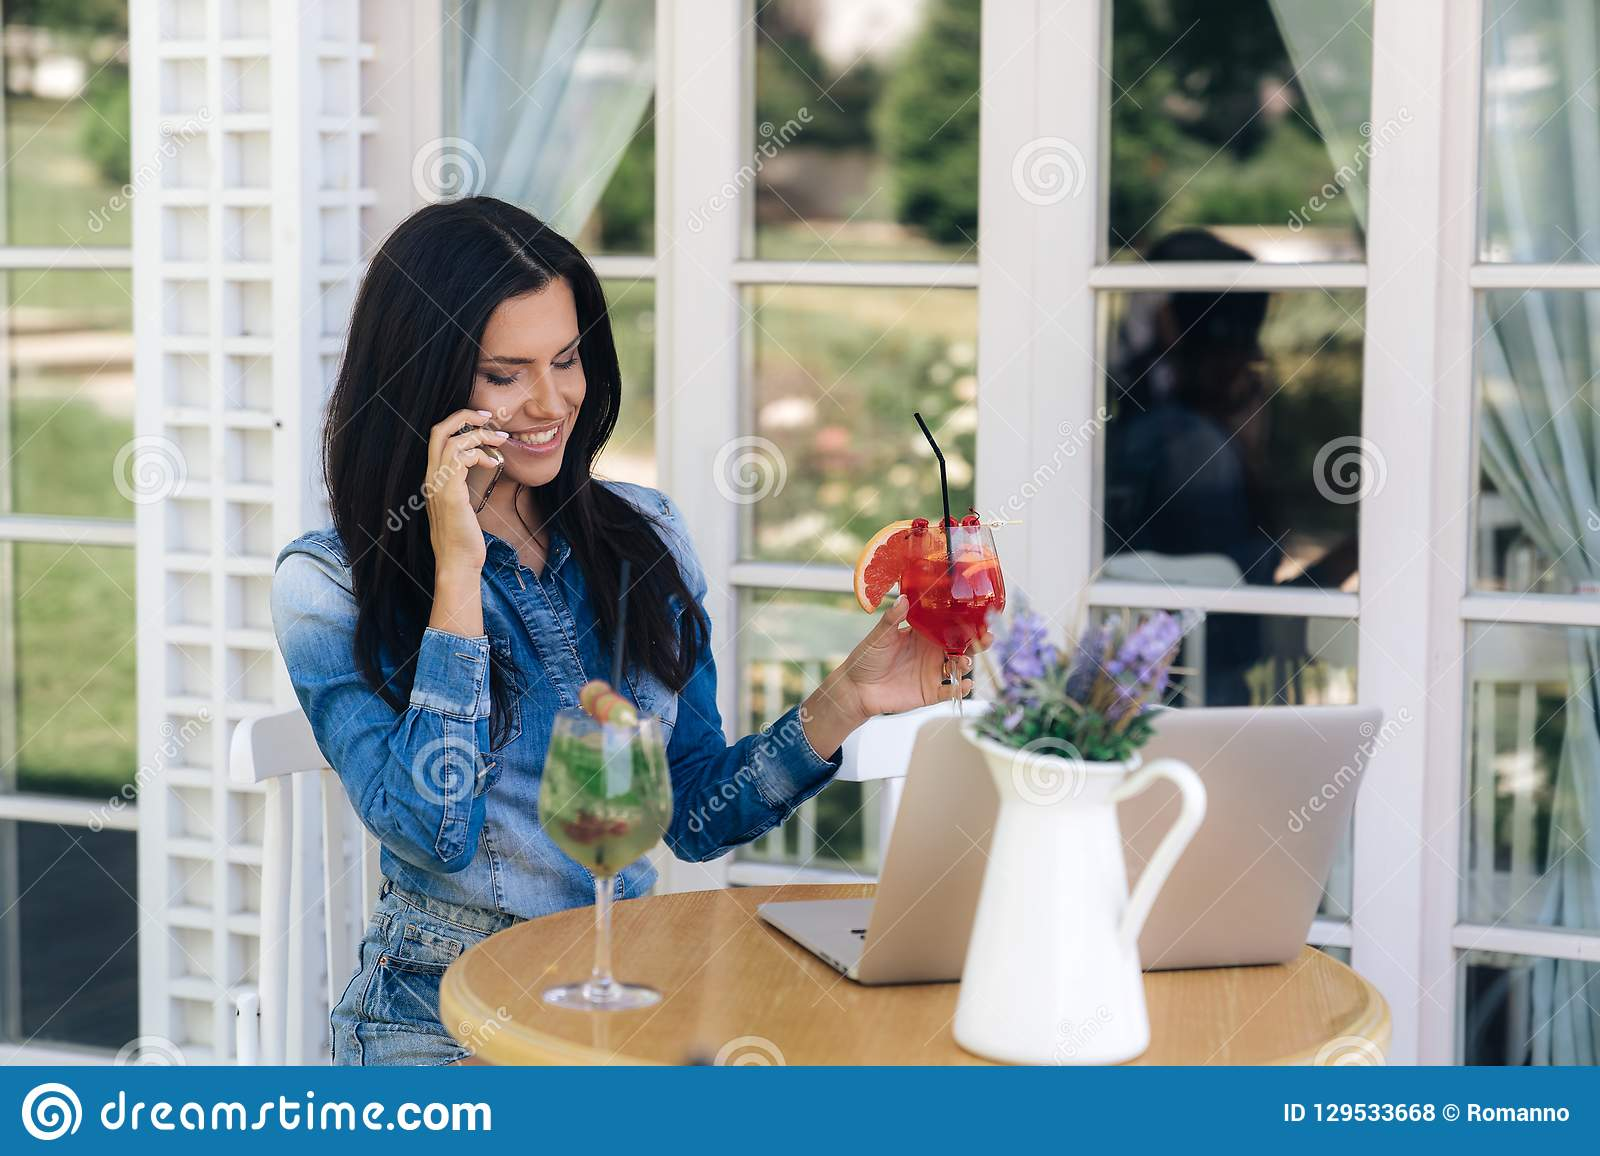phone: (432, 412, 507, 515)
talk: (416, 332, 590, 572)
